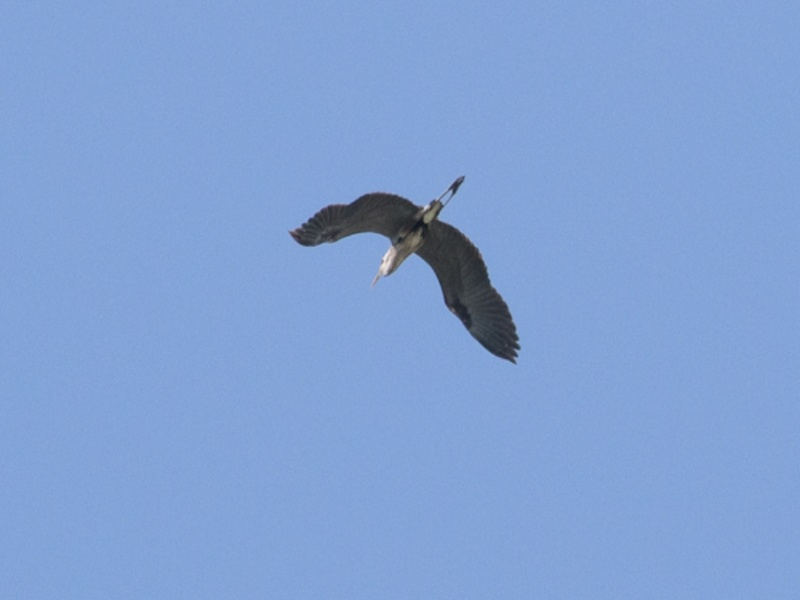heron: (284, 161, 524, 366)
